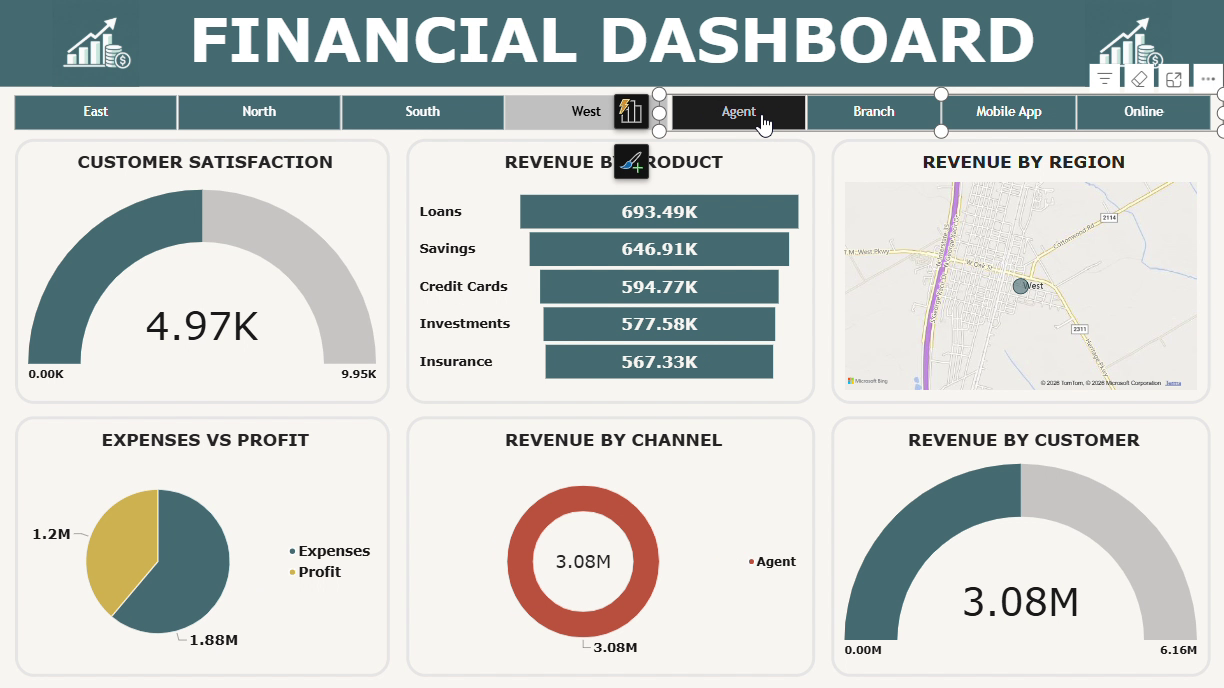

The dashboard page shown, as its layout file describes it:
{"tool":"powerbi","page":{"name":"Page 1","canvas":[1920,1080],"ordinal":0},"visuals":[{"type":"textbox","box":[0,0,1921.1,136],"z":0},{"type":"gauge","title":"CUSTOMER SATISFACTION","fields":{"Y":["Sum(0_financial_dashboard_dataset.Customer_Satisfaction)"]},"box":[23.4,216.8,587.7,415.7],"z":1000},{"type":"pieChart","title":"EXPENSES VS PROFIT","fields":{"Y":["Sum(0_financial_dashboard_dataset.Expenses)","Sum(0_financial_dashboard_dataset.Profit)"]},"box":[23.4,652.2,587.7,408.5],"z":2000},{"type":"donutChart","title":"REVENUE BY CHANNEL","fields":{"Category":["0_financial_dashboard_dataset.Channel"],"Y":["Sum(0_financial_dashboard_dataset.Revenue)"]},"box":[638,652.2,641.4,408.5],"z":3000},{"type":"map","title":"REVENUE BY REGION","fields":{"Category":["0_financial_dashboard_dataset.Region"],"Size":["Sum(0_financial_dashboard_dataset.Revenue)"]},"box":[1304.5,216.8,594.8,415.7],"z":4000},{"type":"gauge","title":"REVENUE BY CUSTOMER","fields":{"Y":["Sum(0_financial_dashboard_dataset.Revenue)"]},"box":[1304.5,652.2,594.8,408.5],"z":5000},{"type":"funnel","title":"REVENUE BY PRODUCT","fields":{"Category":["0_financial_dashboard_dataset.Product"],"Y":["Sum(0_financial_dashboard_dataset.Revenue)"]},"box":[638,216.8,641.4,415.7],"z":6000},{"type":"slicer","fields":{"Values":["0_financial_dashboard_dataset.Region"]},"box":[1.2,147.3,1064,58.7],"z":7000},{"type":"slicer","fields":{"Values":["0_financial_dashboard_dataset.Channel"]},"box":[1034.2,147.3,884.8,58.7],"z":8000},{"type":"image","box":[0,0,300,136],"z":9000},{"type":"image","box":[1620,0,300,136],"z":10000}]}

Visuals, with their boxes on the page's 1920x1080 design canvas (x1, y1, x2, y2). These are canvas units, not pixel positions in the 1224x688 screenshot, which may show the page scaled, cropped or inside an application window:
textbox: l=0, t=0, r=1921, b=136
"CUSTOMER SATISFACTION" gauge: l=23, t=217, r=611, b=632
"EXPENSES VS PROFIT" pieChart: l=23, t=652, r=611, b=1061
"REVENUE BY CHANNEL" donutChart: l=638, t=652, r=1279, b=1061
"REVENUE BY REGION" map: l=1304, t=217, r=1899, b=632
"REVENUE BY CUSTOMER" gauge: l=1304, t=652, r=1899, b=1061
"REVENUE BY PRODUCT" funnel: l=638, t=217, r=1279, b=632
slicer - 0_financial_dashboard_dataset.Region: l=1, t=147, r=1065, b=206
slicer - 0_financial_dashboard_dataset.Channel: l=1034, t=147, r=1919, b=206
image: l=0, t=0, r=300, b=136
image: l=1620, t=0, r=1920, b=136
